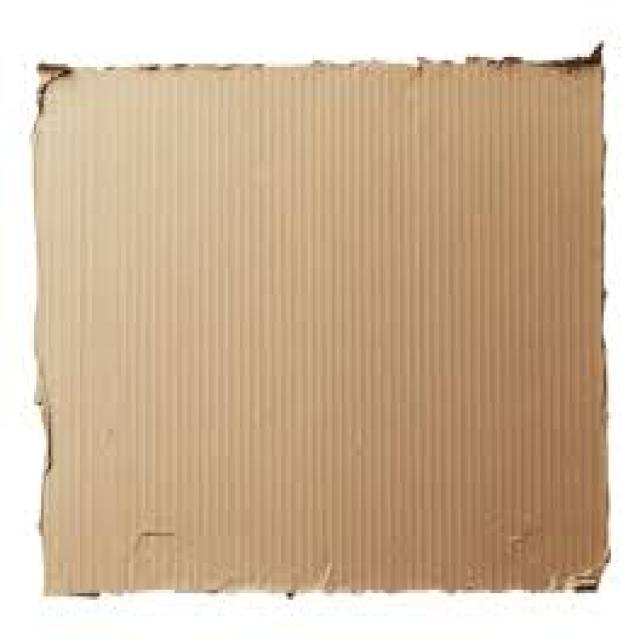paper: (16, 33, 612, 628)
